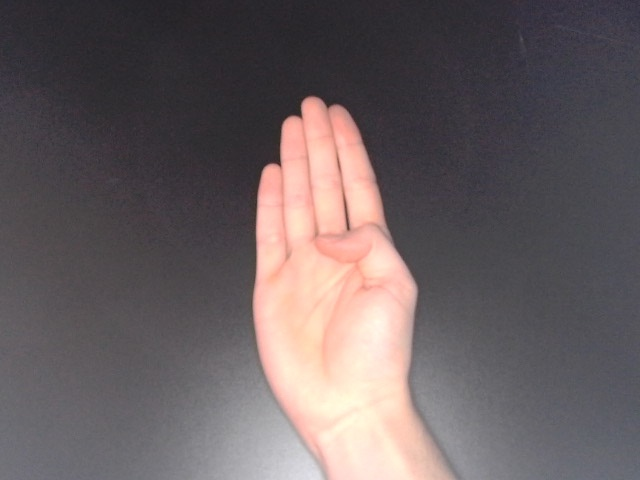b: (248, 91, 423, 444)
